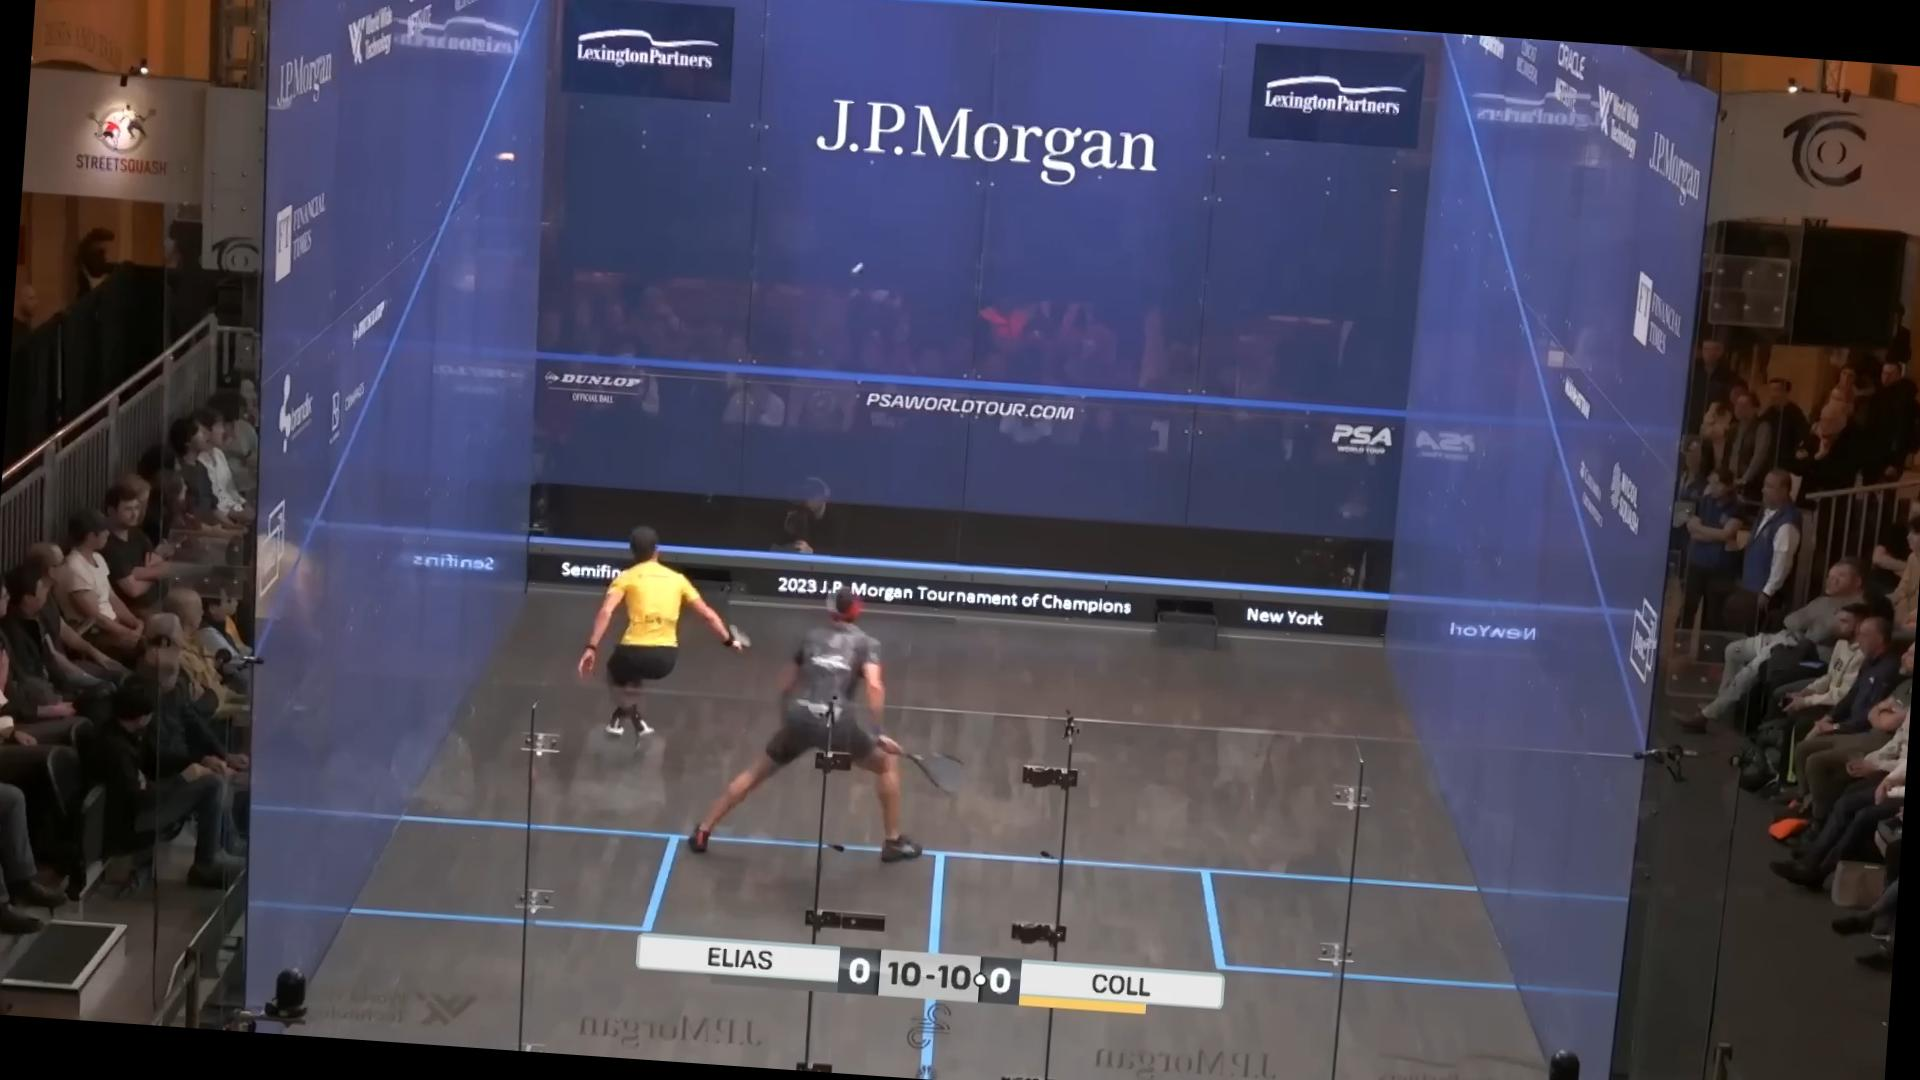Racket: (882, 731, 978, 806)
